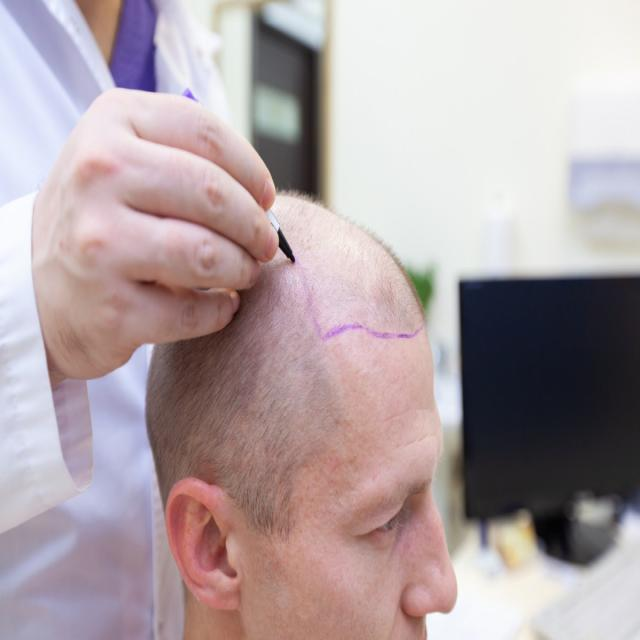no_helmet: (116, 180, 470, 492)
